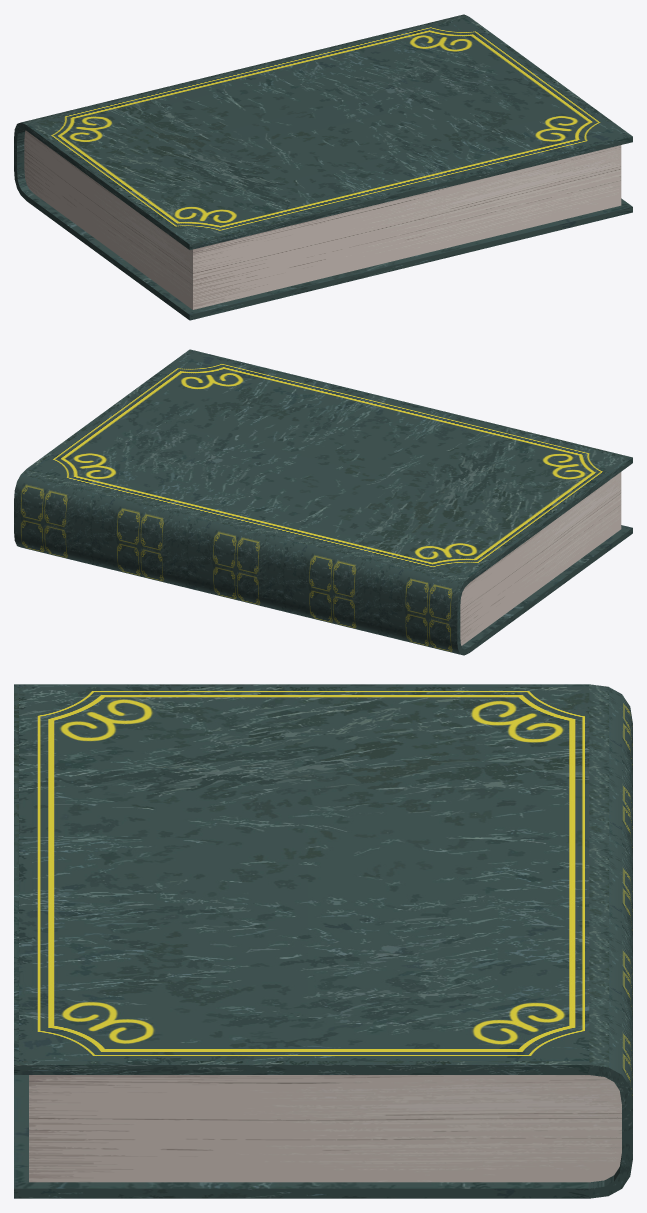
File: Book 1.fbx
3 views of the same model, one above another, from view 1: azimuth 30°, elevation 25°; view 2: azimuth 150°, elevation 25°; view 3: azimuth 270°, elevation 25° (orthographic). The views are drawn at different scales.
Visible parts, largest first — view 1: Box001; view 2: Box001; view 3: Box001.
Boxes of the visible parts, x1,y1,x2,y2 form: Box001: [14, 14, 632, 320]; Box001: [14, 349, 632, 655]; Box001: [14, 684, 632, 1198].
Size of the model in its own units: 65.96 by 10.8 by 45.33.
